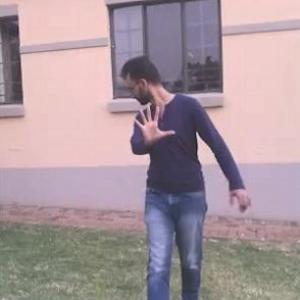follow_hand: (130, 97, 176, 146)
